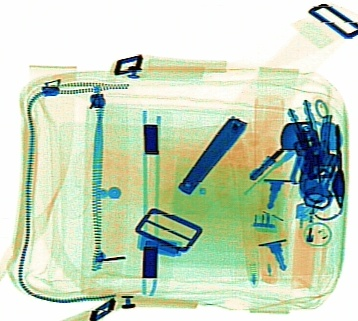lighter: (288, 199, 319, 289)
